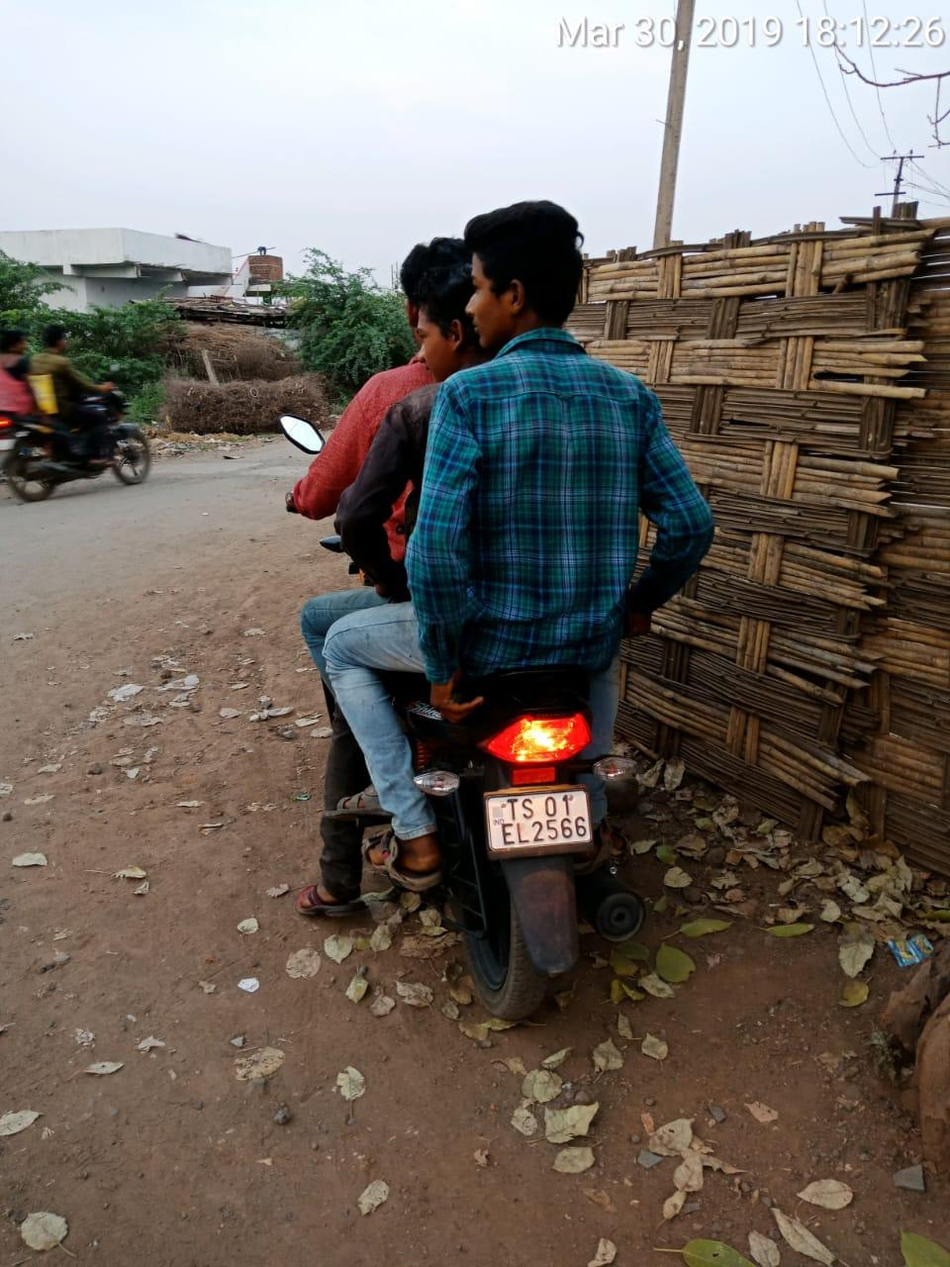plate: (456, 780, 623, 870)
